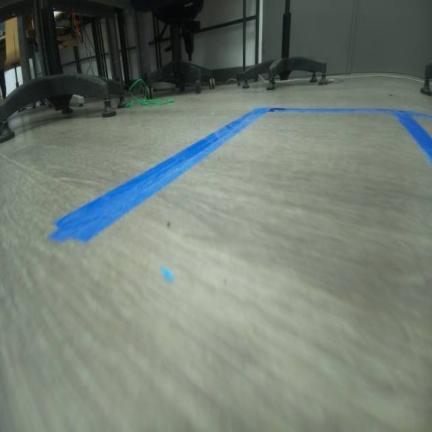place: (45, 104, 431, 431)
